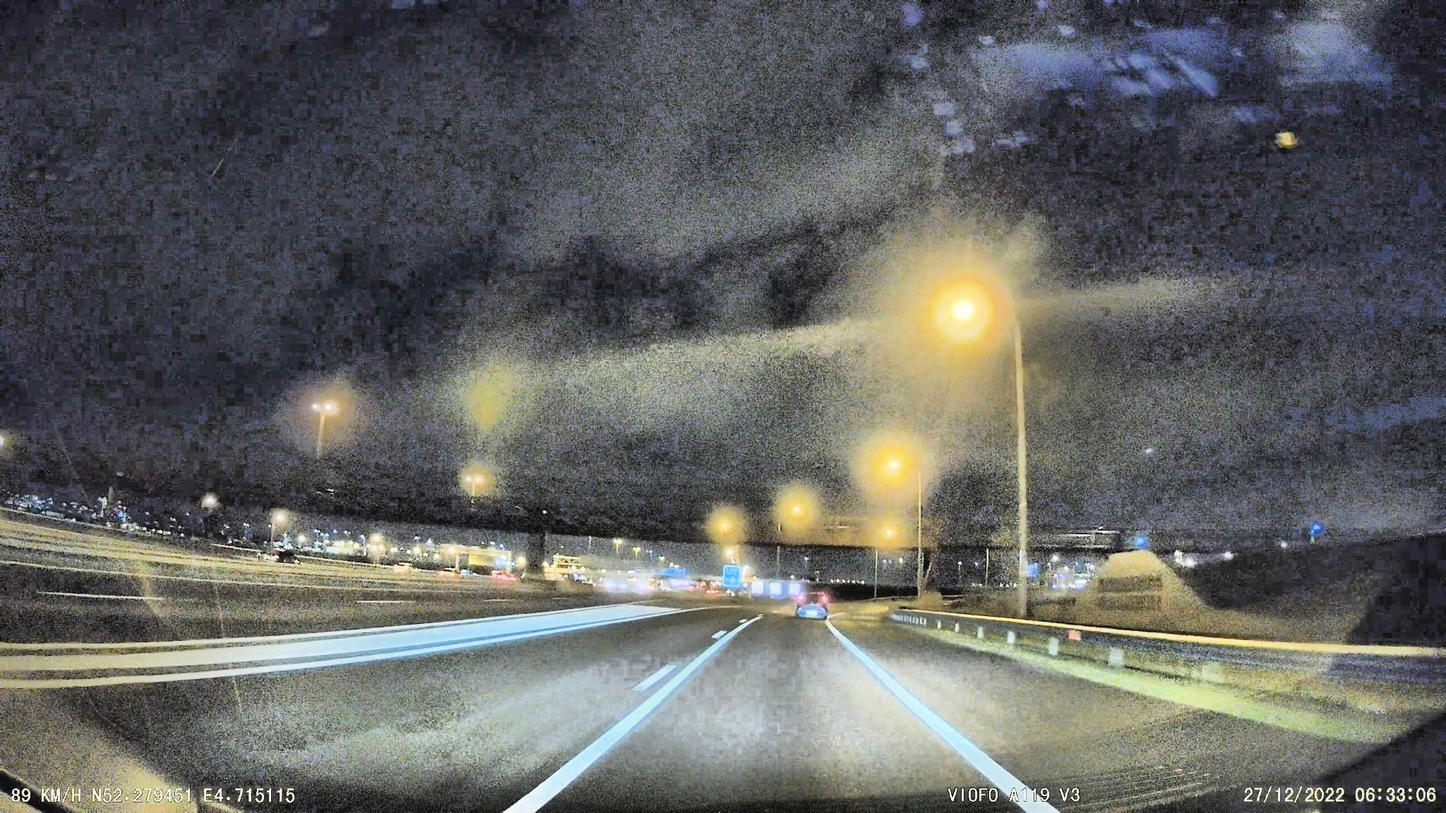Roads: (0, 604, 1263, 813)
